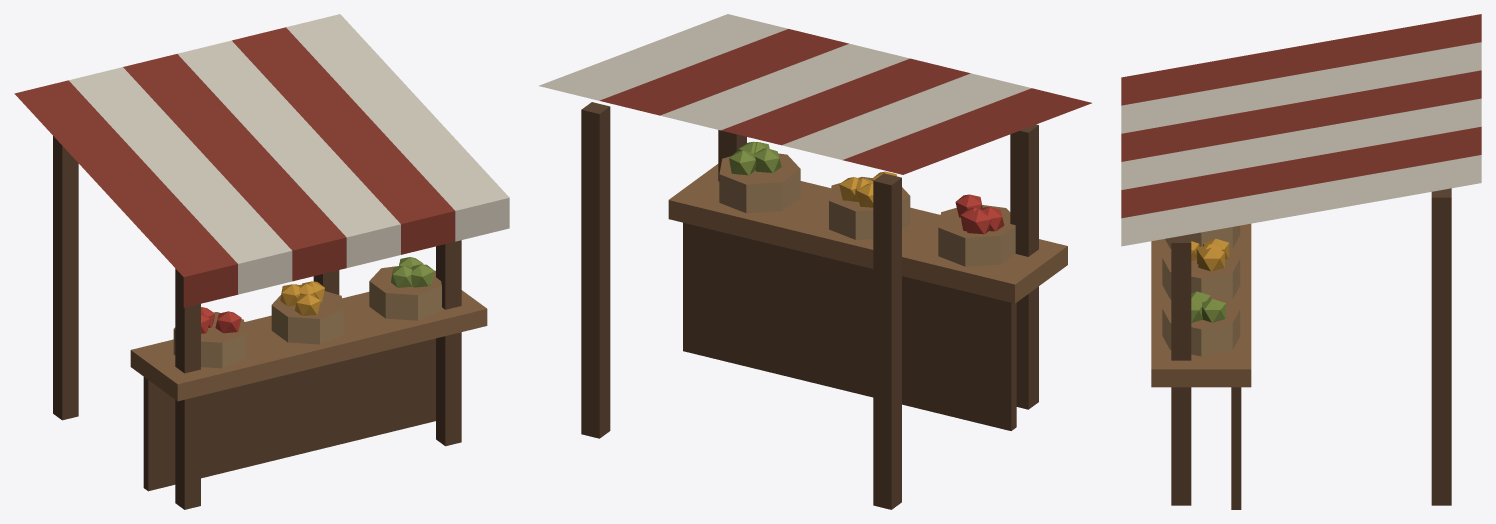
File: market_stall.glb
3 views of the same model, side by side, from view 1: azimuth 30°, elevation 25°; view 2: azimuth 150°, elevation 25°; view 3: azimuth 270°, elevation 25° (orthographic). The views are drawn at different scales.
Parts seen in each view (by area): view 1: market_stall; view 2: market_stall; view 3: market_stall.
Boxes of the visible parts, x1,y1,x2,y2 form: market_stall: (14, 14, 509, 509); market_stall: (539, 14, 1091, 509); market_stall: (1121, 14, 1481, 509).
Bounding box in the file's own units: 2 × 1.85 × 1.8.
